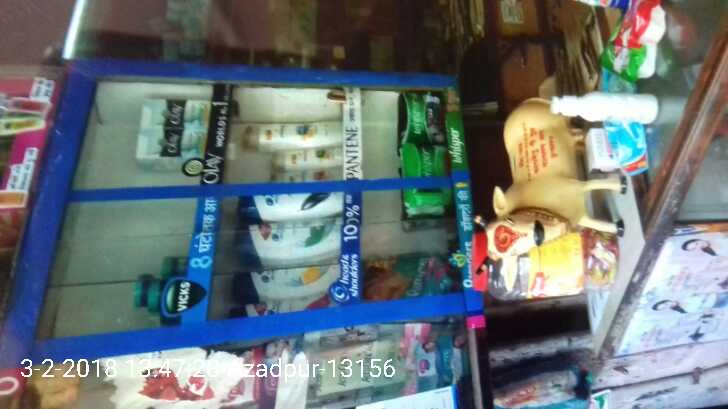vicks: (128, 252, 191, 326)
